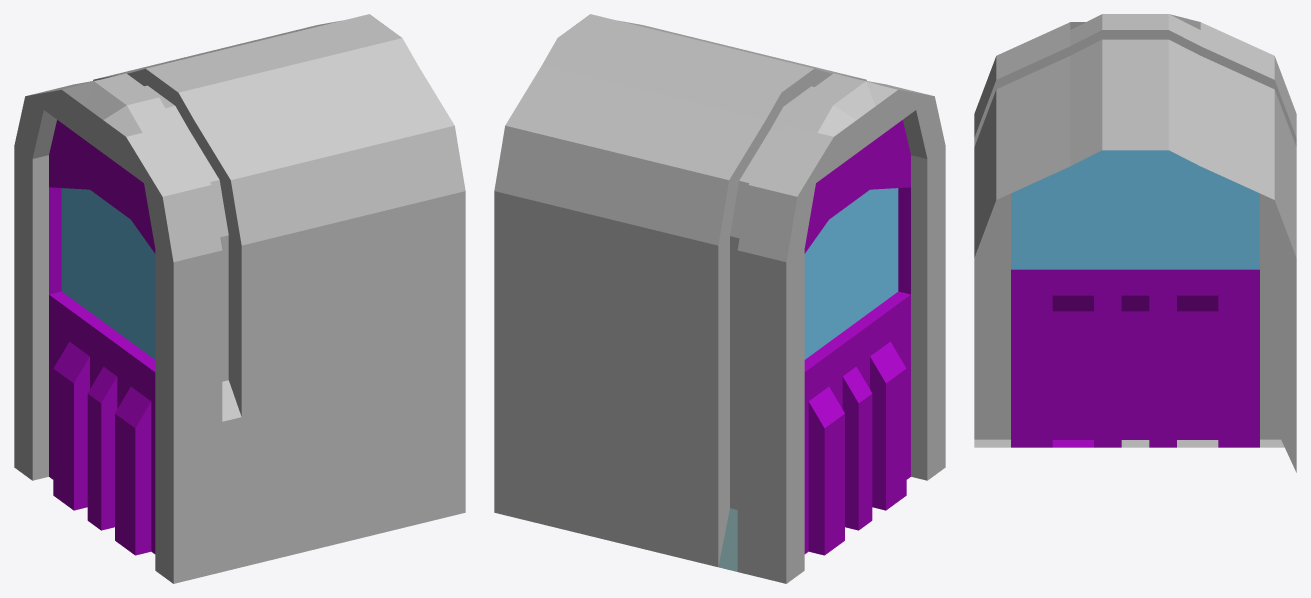
The model's file is Juke_box.fbx.
3 views of the same model, side by side, from view 1: azimuth 30°, elevation 25°; view 2: azimuth 150°, elevation 25°; view 3: azimuth 270°, elevation 25° (orthographic).
Parts seen in each view (by area): view 1: Cube, Cube.016, Cube.017; view 2: Cube, Cube.016, Cube.017; view 3: Cube, Cube.016.
Part boxes in pixels (bbox=[...]): Cube: bbox=[14, 14, 465, 583]; Cube.016: bbox=[53, 341, 151, 555]; Cube.017: bbox=[144, 85, 228, 381]; Cube: bbox=[494, 14, 945, 583]; Cube.016: bbox=[808, 341, 906, 555]; Cube.017: bbox=[730, 86, 814, 509]; Cube: bbox=[974, 14, 1296, 472]; Cube.016: bbox=[1052, 295, 1218, 439].
Bounding box in the file's own units: 148 × 208 × 140.
